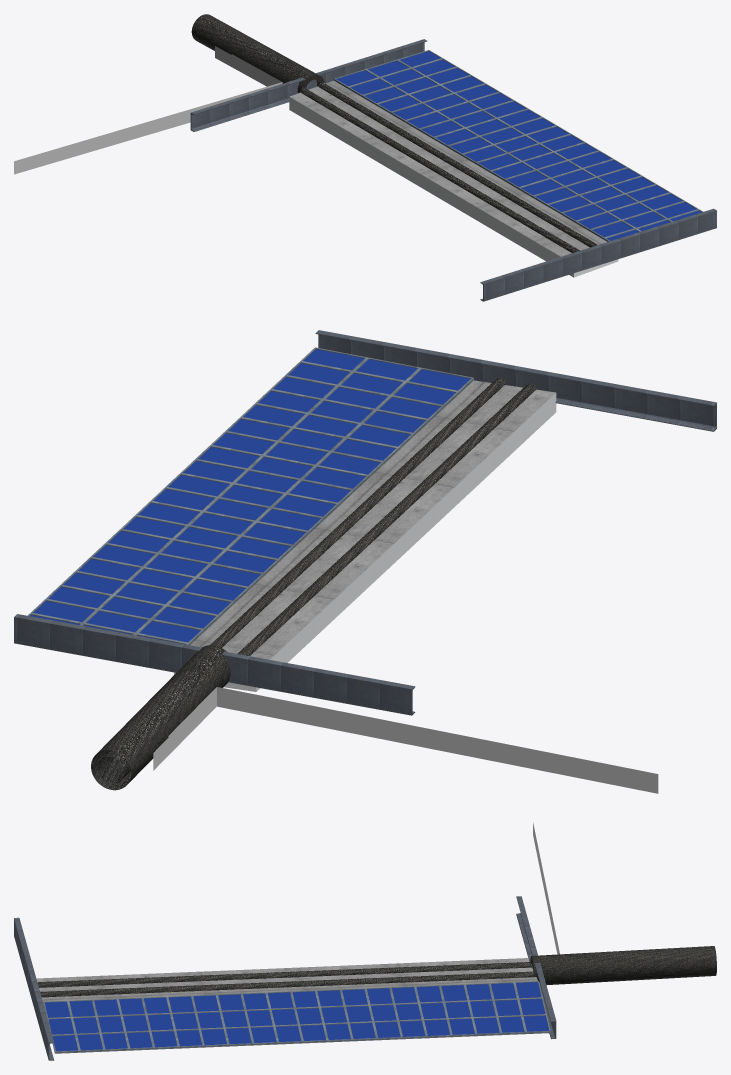
File: Solarteilkls.dae
3 renders of one model, top to bottom at view 1: azimuth 30°, elevation 25°; view 2: azimuth 150°, elevation 25°; view 3: azimuth 270°, elevation 25°, orthographic. The views are drawn at different scales.
Parts seen in each view (by area): view 1: Komponente (×9); view 2: Komponente (×66); view 3: Komponente (×8).
Part boxes in pixels (x1,y1,x2,y2): Komponente (×9): (14,14,716,301); Komponente (×66): (14,330,716,793); Komponente (×8): (14,822,716,1060).
Bounding box in the file's own units: 2271 × 2911 × 124.
